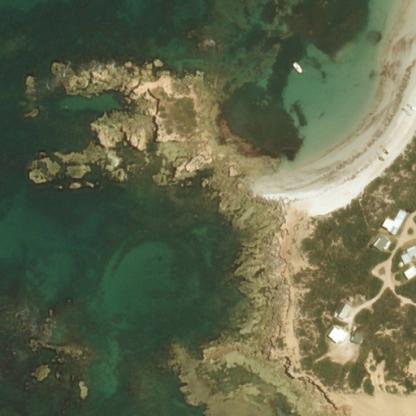ship: (288, 56, 306, 78)
